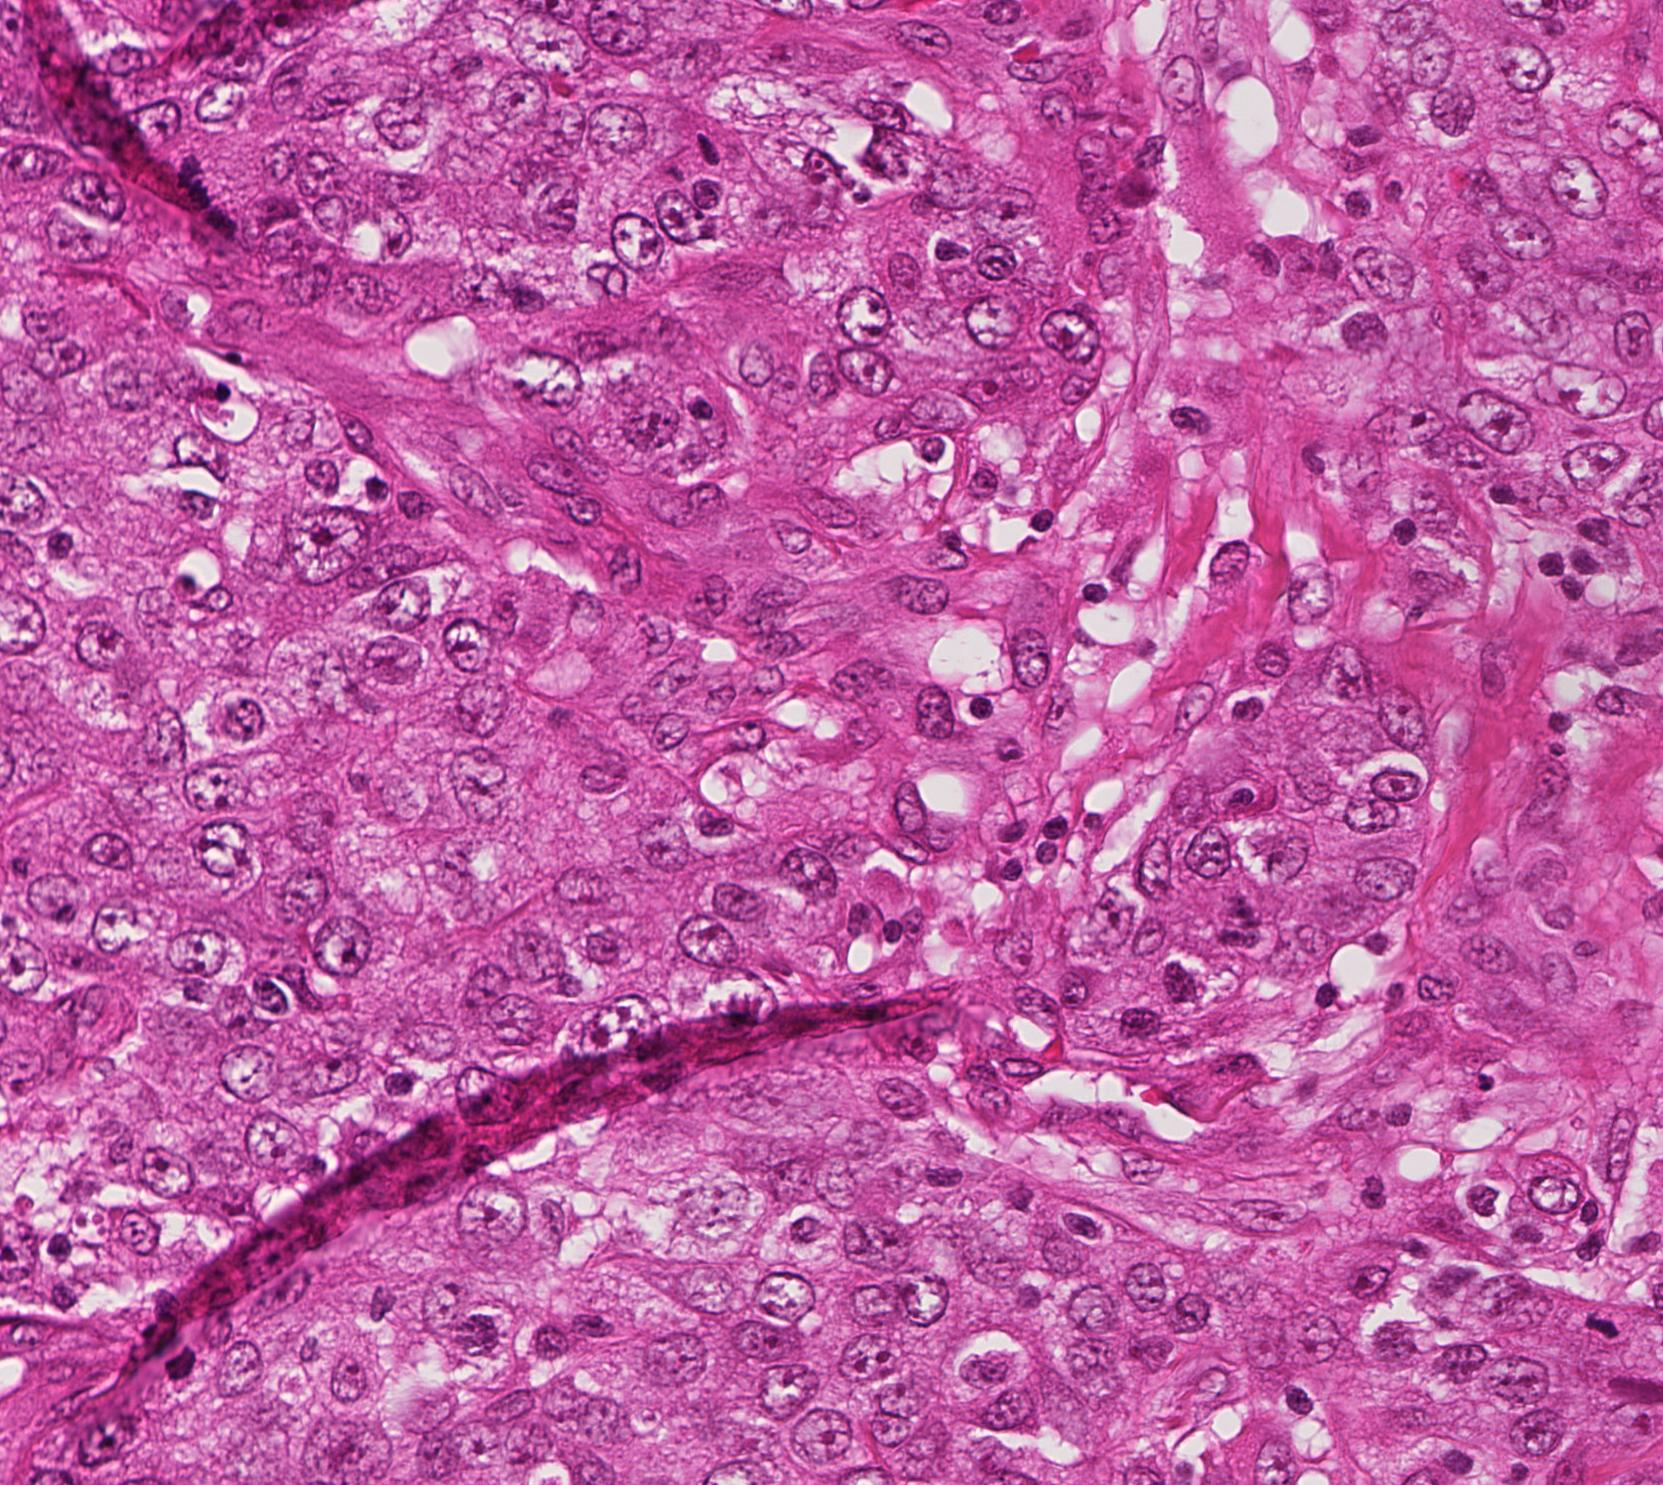mitosis: (1213, 869, 1273, 927)
